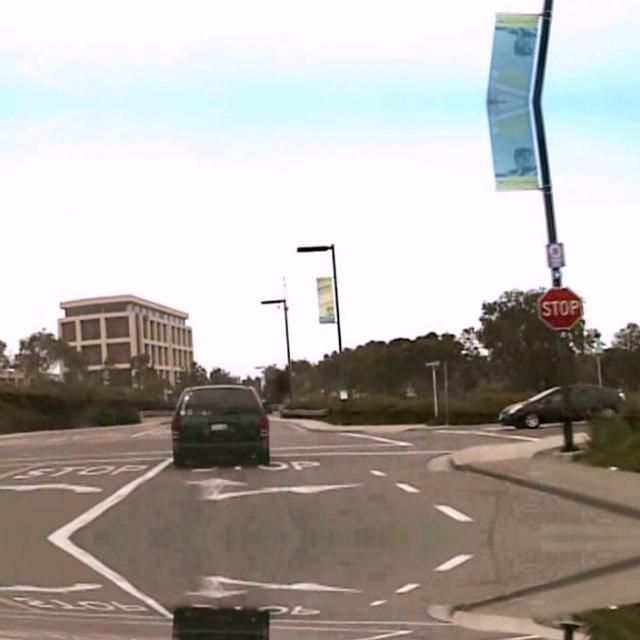stop: (537, 284, 583, 328)
